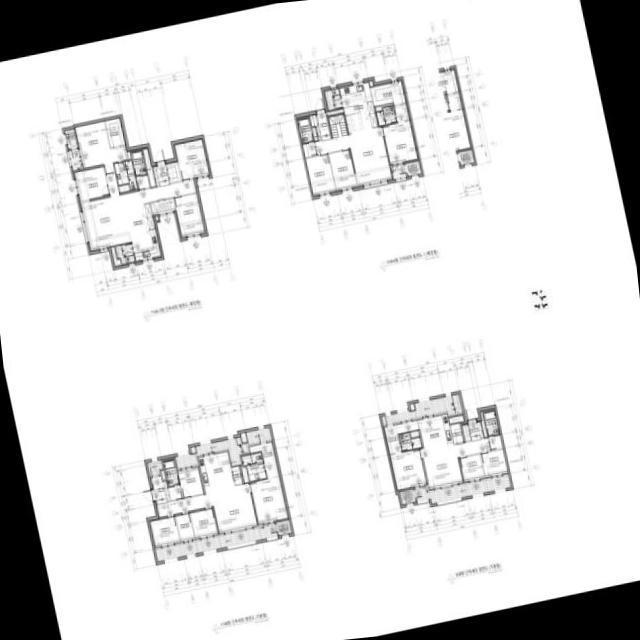background: (0, 0, 640, 640)
space_balconi: (155, 522, 277, 561), (414, 475, 510, 503), (381, 393, 462, 424), (174, 436, 248, 467), (114, 242, 134, 263), (245, 427, 271, 443), (323, 88, 341, 110), (146, 459, 163, 476), (68, 148, 81, 170), (391, 163, 406, 179)
space_bedroom: (74, 121, 127, 173), (382, 103, 417, 163), (249, 476, 288, 523), (390, 448, 426, 489), (174, 138, 209, 179), (173, 193, 205, 236), (305, 153, 335, 194), (74, 166, 108, 200), (328, 149, 356, 189), (149, 516, 179, 546), (189, 508, 217, 538), (177, 466, 203, 497), (480, 448, 507, 476), (459, 453, 484, 481)
space_dressroom: (247, 441, 279, 478), (384, 420, 418, 454), (370, 80, 406, 105), (104, 117, 124, 147)
space_front: (150, 475, 169, 504), (315, 112, 330, 140), (152, 162, 169, 186), (468, 421, 483, 440)
space_kitchen: (124, 203, 160, 260), (339, 81, 377, 133), (197, 451, 234, 492), (417, 413, 452, 448)
space_living_room: (80, 172, 196, 249), (156, 483, 256, 533), (314, 126, 391, 185), (420, 437, 490, 488)
space_other: (175, 513, 194, 541), (142, 148, 155, 186), (327, 113, 347, 137), (150, 198, 175, 214), (165, 160, 180, 182), (449, 422, 463, 443), (167, 484, 182, 499), (488, 434, 502, 450), (135, 174, 149, 189), (302, 142, 316, 157), (231, 465, 242, 484), (110, 246, 120, 265), (480, 411, 486, 436), (240, 464, 248, 482), (461, 424, 470, 440), (448, 415, 463, 423), (326, 108, 343, 115), (375, 103, 392, 110), (309, 113, 317, 126), (311, 127, 317, 140), (410, 430, 419, 437), (240, 432, 246, 442), (160, 470, 165, 479), (190, 446, 195, 452), (409, 403, 414, 409), (127, 150, 130, 158), (368, 80, 372, 85), (155, 216, 158, 219)
space_outdoor_room: (64, 128, 77, 148), (399, 488, 415, 504), (275, 519, 291, 535), (404, 160, 420, 175)
space_toilet: (113, 160, 136, 192), (241, 452, 265, 480), (130, 150, 146, 176), (162, 459, 178, 485), (398, 432, 421, 450), (297, 117, 313, 142), (376, 105, 396, 125), (483, 410, 499, 435)
